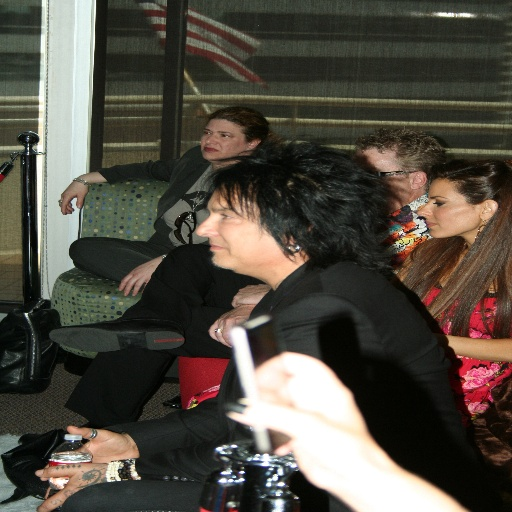hand: (241, 350, 390, 490), (41, 425, 140, 482), (35, 460, 110, 511), (207, 304, 256, 348), (115, 256, 165, 299), (56, 172, 94, 215), (228, 284, 275, 307)
